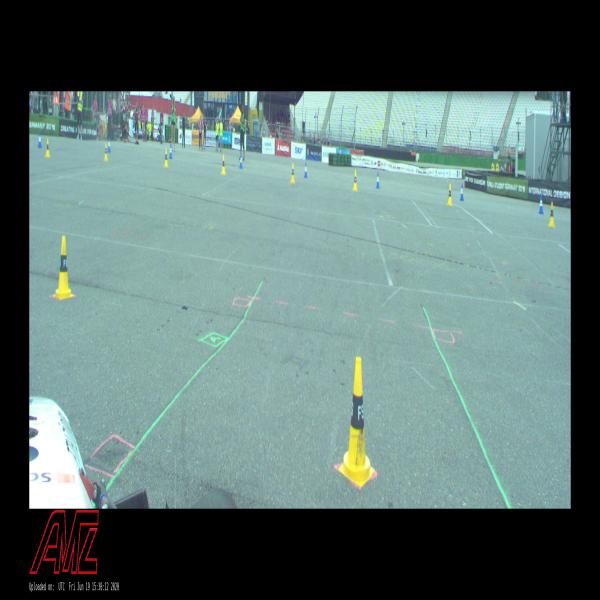blue_cone: (538, 195, 544, 214), (460, 183, 464, 201), (376, 172, 380, 189), (38, 132, 42, 148), (169, 144, 173, 159), (239, 154, 243, 168), (304, 162, 307, 178), (108, 138, 111, 152)
yellow_cone: (338, 358, 374, 487), (53, 236, 74, 299), (548, 202, 555, 228), (290, 163, 296, 184), (447, 184, 452, 206), (103, 143, 109, 161), (221, 155, 226, 175), (45, 139, 50, 158), (164, 148, 169, 167), (353, 171, 357, 192)
